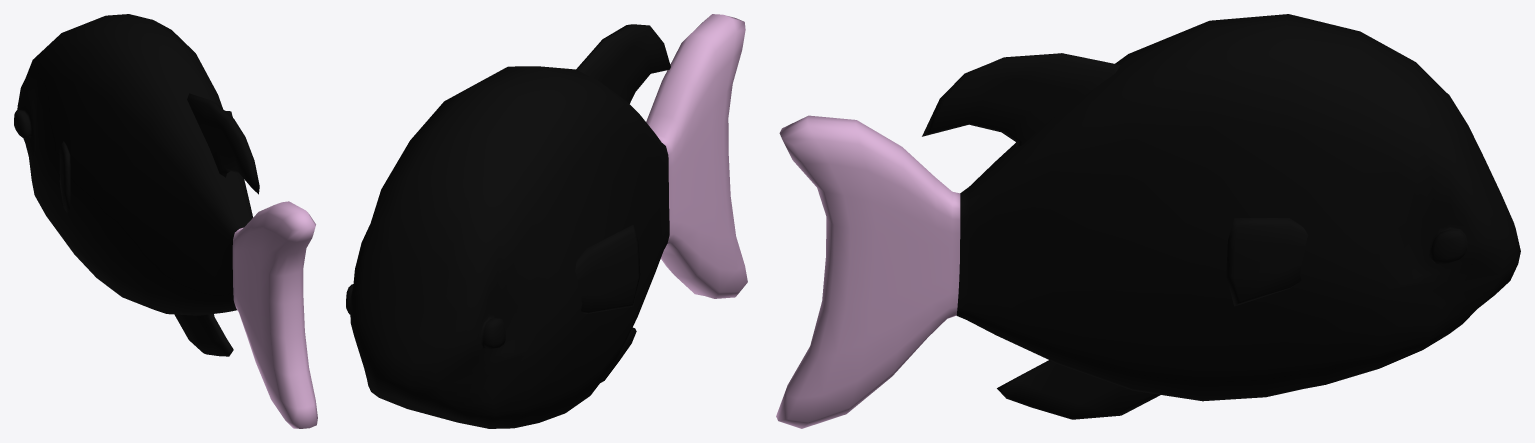
File: Fish_01.fbx
3 views of the same model, side by side, from view 1: azimuth 30°, elevation 25°; view 2: azimuth 150°, elevation 25°; view 3: azimuth 270°, elevation 25° (orthographic). The views are drawn at different scales.
Parts seen in each view (by area): view 1: Cube.013; view 2: Cube.013; view 3: Cube.013.
Part boxes in pixels (x1=…): Cube.013: x1=14, y1=14, x2=317, y2=428; Cube.013: x1=346, y1=14, x2=747, y2=428; Cube.013: x1=776, y1=14, x2=1520, y2=428.
Bounding box in the file's own units: 134 × 211 × 355.
